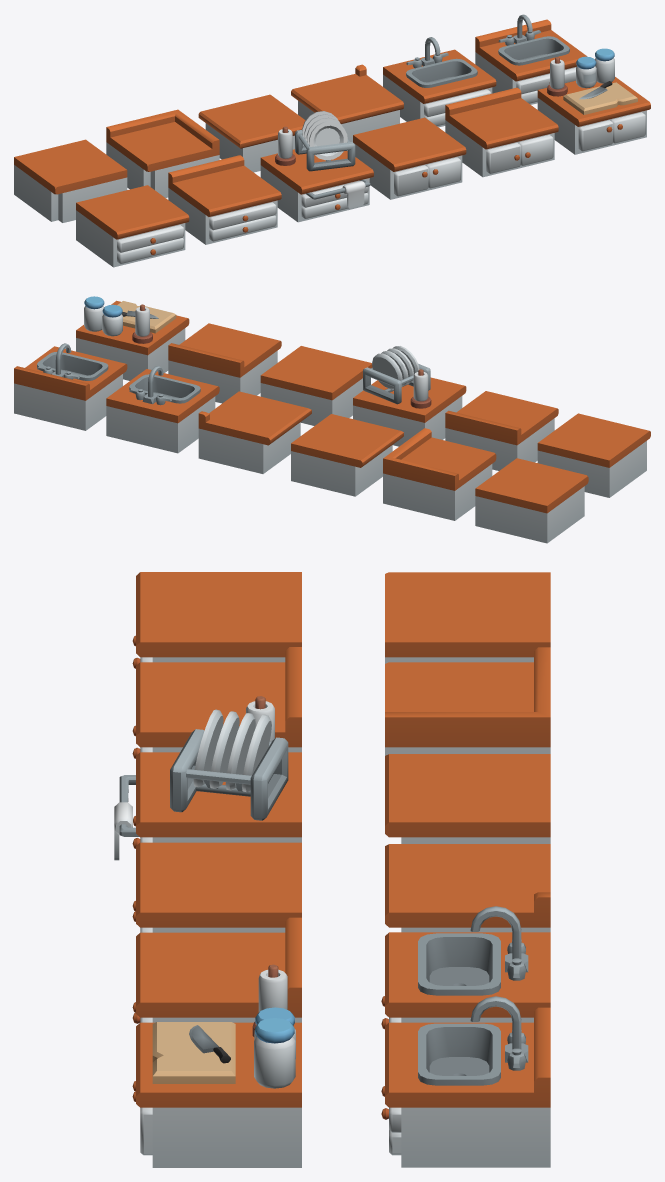
File: Modular Kitchen Parts.glb
3 renders of one model, top to bottom at view 1: azimuth 30°, elevation 25°; view 2: azimuth 150°, elevation 25°; view 3: azimuth 270°, elevation 25°, orthographic. The views are drawn at different scales.
Visible parts, largest first — view 1: kitchencounter_straight_A_decorated, kitchencounter_straight_decorated, kitchencounter_straight_B_backsplash, kitchencounter_straight_A_backsplash, kitchencounter_straight_A, kitchencounter_straight_B, kitchencounter_innercorner, kitchencounter_innercorner_backsplash, kitchencounter_sink_backsplash, kitchencounter_sink, kitchencounter_outercorner, kitchencounter_outercorner_backsplash; view 2: kitchencounter_innercorner_backsplash, kitchencounter_innercorner, kitchencounter_sink_backsplash, kitchencounter_sink, kitchencounter_straight_A_decorated, kitchencounter_outercorner_backsplash, kitchencounter_outercorner, kitchencounter_straight_A, kitchencounter_straight_decorated, kitchencounter_straight_B_backsplash, kitchencounter_straight_A_backsplash, kitchencounter_straight_B; view 3: kitchencounter_straight_decorated, kitchencounter_sink_backsplash, kitchencounter_straight_A_decorated, kitchencounter_innercorner_backsplash, kitchencounter_sink, kitchencounter_straight_A, kitchencounter_straight_B, kitchencounter_innercorner, kitchencounter_outercorner, kitchencounter_outercorner_backsplash, kitchencounter_straight_B_backsplash, kitchencounter_straight_A_backsplash.
Part boxes in pixels (x1,y1,x2,y2): kitchencounter_straight_A_decorated: [260, 111, 373, 222]; kitchencounter_straight_decorated: [537, 48, 650, 154]; kitchencounter_straight_B_backsplash: [445, 87, 558, 177]; kitchencounter_straight_A_backsplash: [168, 155, 281, 244]; kitchencounter_straight_A: [76, 185, 189, 267]; kitchencounter_straight_B: [353, 117, 466, 199]; kitchencounter_innercorner: [14, 139, 127, 222]; kitchencounter_innercorner_backsplash: [106, 109, 219, 197]; kitchencounter_sink_backsplash: [475, 14, 587, 104]; kitchencounter_sink: [383, 37, 496, 127]; kitchencounter_outercorner: [198, 94, 305, 172]; kitchencounter_outercorner_backsplash: [291, 64, 403, 141]; kitchencounter_innercorner_backsplash: [383, 428, 496, 520]; kitchencounter_innercorner: [475, 458, 588, 543]; kitchencounter_sink_backsplash: [14, 343, 127, 430]; kitchencounter_sink: [106, 366, 219, 453]; kitchencounter_straight_A_decorated: [353, 346, 466, 446]; kitchencounter_outercorner_backsplash: [198, 391, 311, 473]; kitchencounter_outercorner: [291, 414, 403, 496]; kitchencounter_straight_A: [537, 413, 650, 497]; kitchencounter_straight_decorated: [76, 296, 189, 380]; kitchencounter_straight_B_backsplash: [168, 323, 281, 403]; kitchencounter_straight_A_backsplash: [445, 391, 558, 470]; kitchencounter_straight_B: [260, 346, 372, 425]; kitchencounter_straight_decorated: [132, 964, 301, 1167]; kitchencounter_sink_backsplash: [381, 996, 550, 1167]; kitchencounter_straight_A_decorated: [114, 696, 301, 860]; kitchencounter_innercorner_backsplash: [385, 647, 550, 755]; kitchencounter_sink: [381, 906, 550, 1029]; kitchencounter_straight_A: [132, 572, 301, 668]; kitchencounter_straight_B: [132, 842, 301, 932]; kitchencounter_innercorner: [385, 572, 550, 663]; kitchencounter_outercorner: [385, 754, 550, 843]; kitchencounter_outercorner_backsplash: [385, 844, 550, 932]; kitchencounter_straight_B_backsplash: [132, 917, 301, 1023]; kitchencounter_straight_A_backsplash: [132, 647, 301, 758].
Bounding box in the file's own units: 14.86 × 2.1 × 5.26.
1 material, 1 textured.
